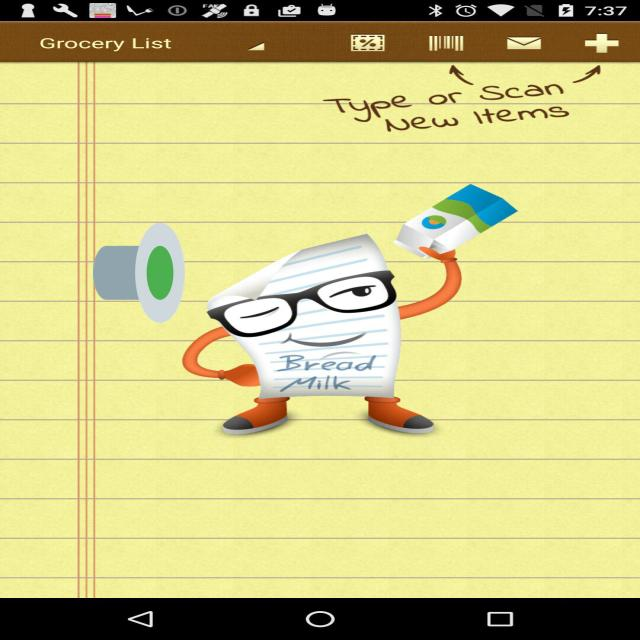social proof: (93, 180, 185, 366)
